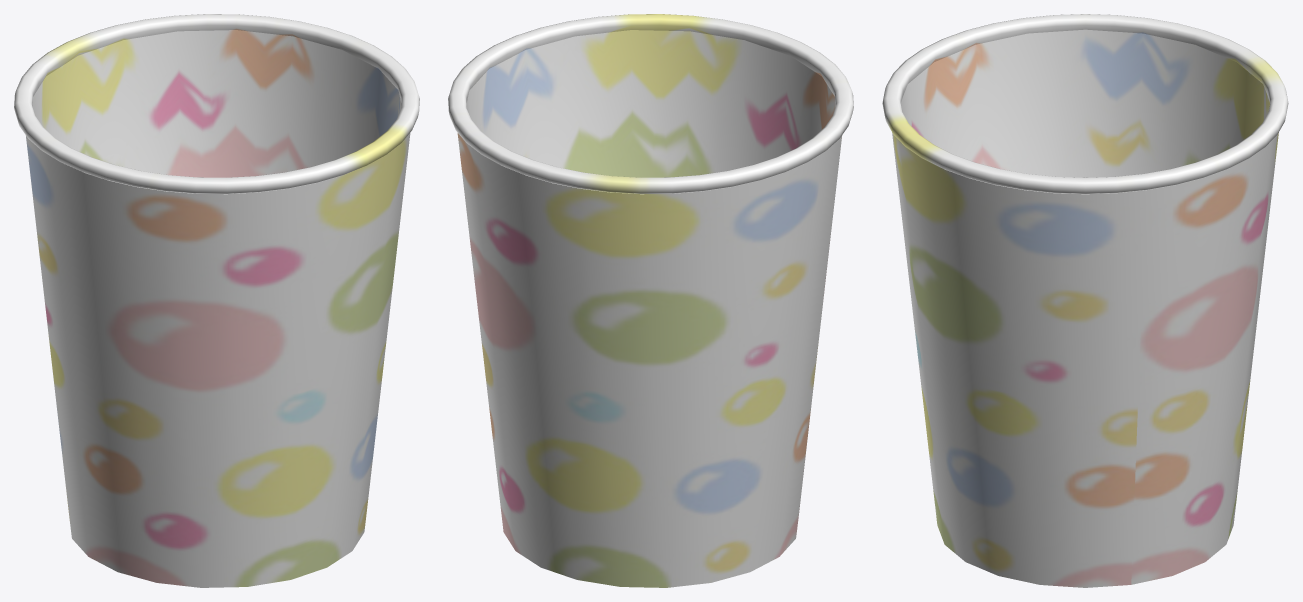
File: simple-paper-cup.glb
3 views of the same model, side by side, from view 1: azimuth 30°, elevation 25°; view 2: azimuth 150°, elevation 25°; view 3: azimuth 270°, elevation 25° (orthographic).
Parts seen in each view (by area): view 1: Object_2; view 2: Object_2; view 3: Object_2.
Boxes of the visible parts, x1,y1,x2,y2 form: Object_2: [14, 14, 419, 587]; Object_2: [448, 14, 853, 587]; Object_2: [882, 14, 1288, 587].
Size of the model in its own units: 3.25 by 3.77 by 3.25.
Materials: 1 (1 with a texture image).
